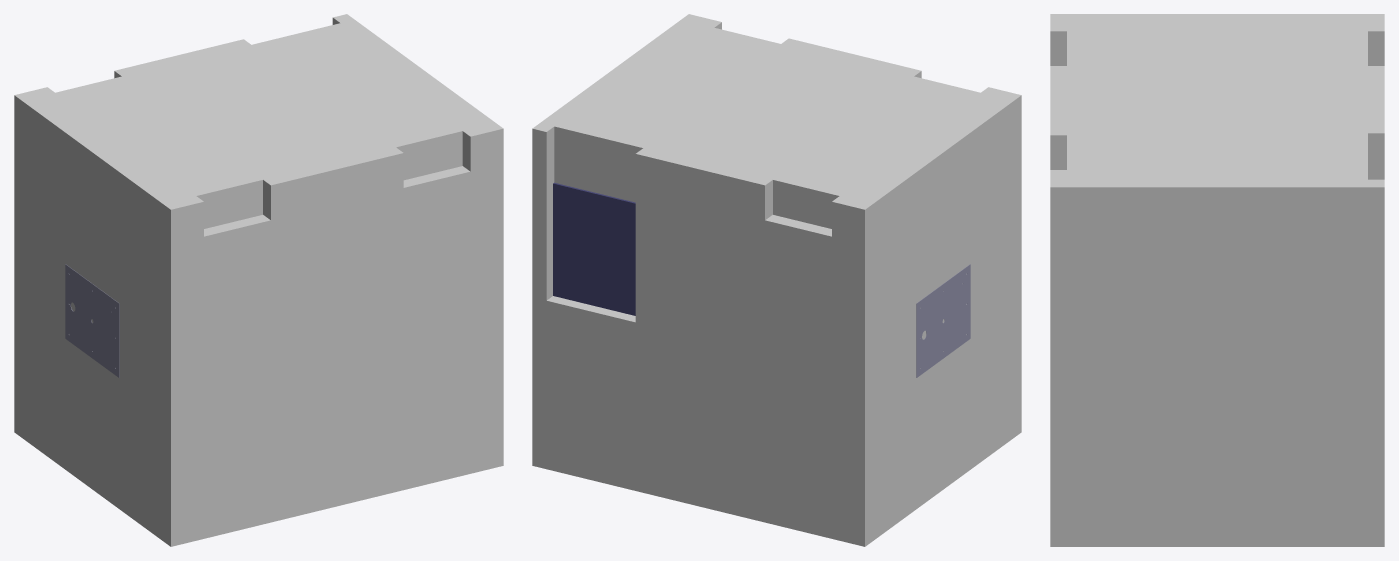
Rendered from assembly.glb.
3 renders of one model, left to right at view 1: azimuth 30°, elevation 25°; view 2: azimuth 150°, elevation 25°; view 3: azimuth 270°, elevation 25°, orthographic. The views are drawn at different scales.
Parts seen in each view (by area): view 1: container_shell, ARC-PLT-CG; view 2: container_shell, GRD-SWG-001, ARC-PLT-CG; view 3: container_shell.
Boxes of the visible parts, x1,y1,x2,y2 form: container_shell: (14, 14, 503, 546); ARC-PLT-CG: (65, 264, 119, 377); container_shell: (532, 14, 1021, 546); GRD-SWG-001: (553, 182, 635, 315); ARC-PLT-CG: (916, 264, 970, 377); container_shell: (1050, 14, 1384, 546).
Bounding box in the file's own units: 2994 × 2896 × 2438.
